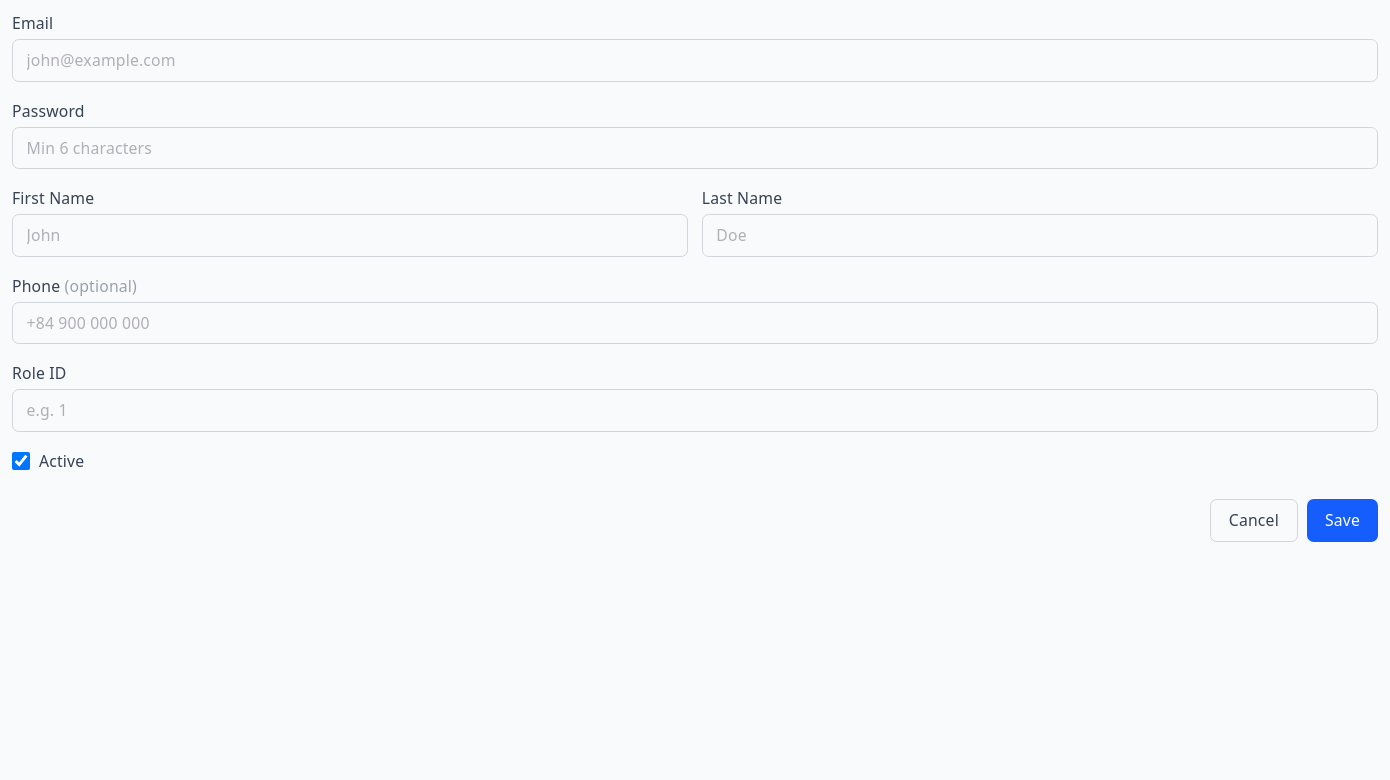
Test: UserForm — create mode › shows validation errors when submitted empty
Step 1. Click the button "Save" → (1342, 520), box [1307,499,1378,542]
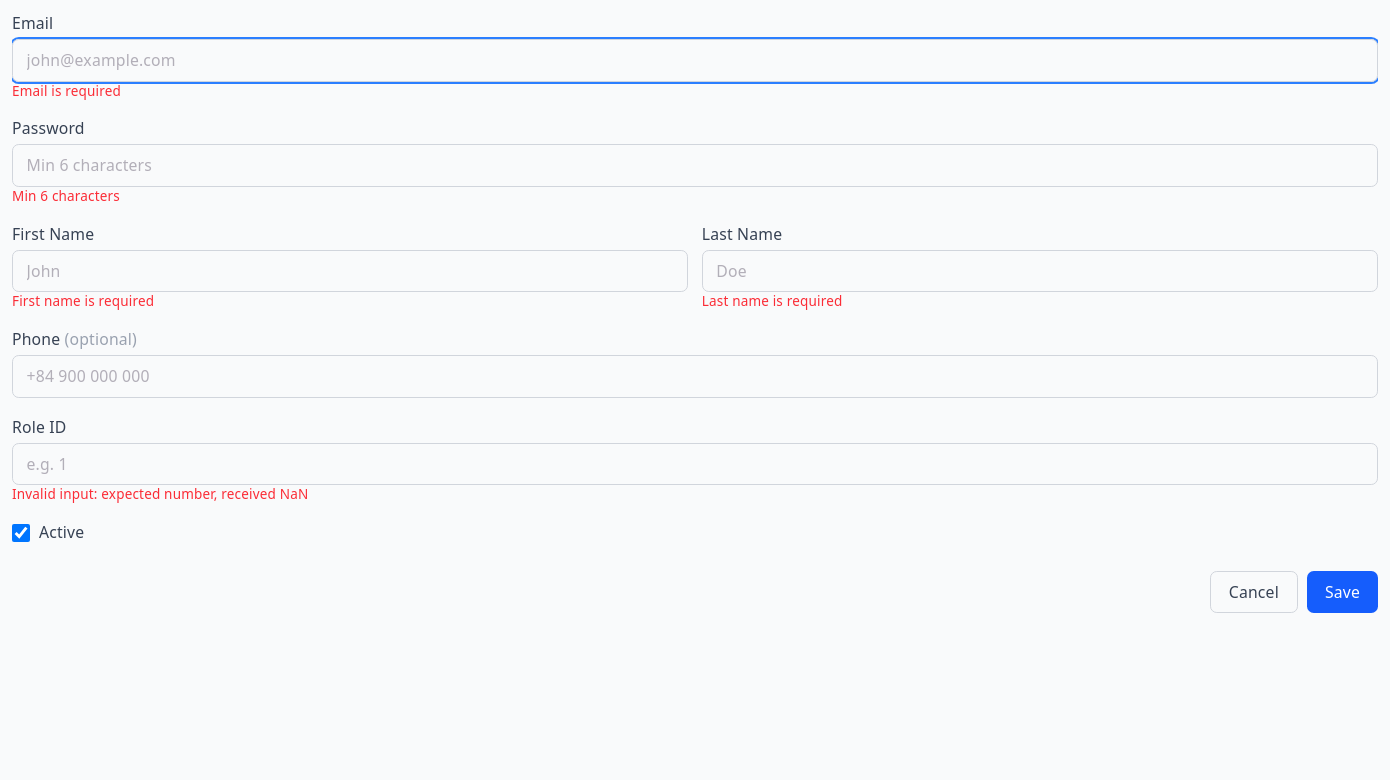
expect the text "Email is required" is shown: met, box [12,82,121,100]
